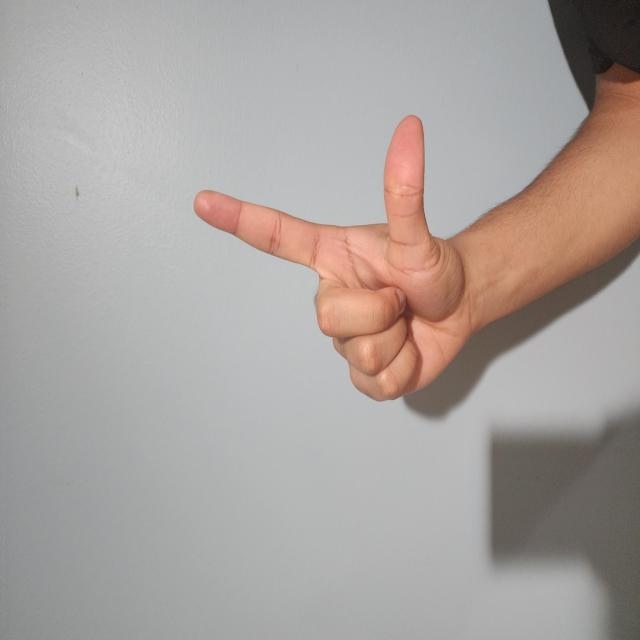L: (175, 255, 397, 629)
